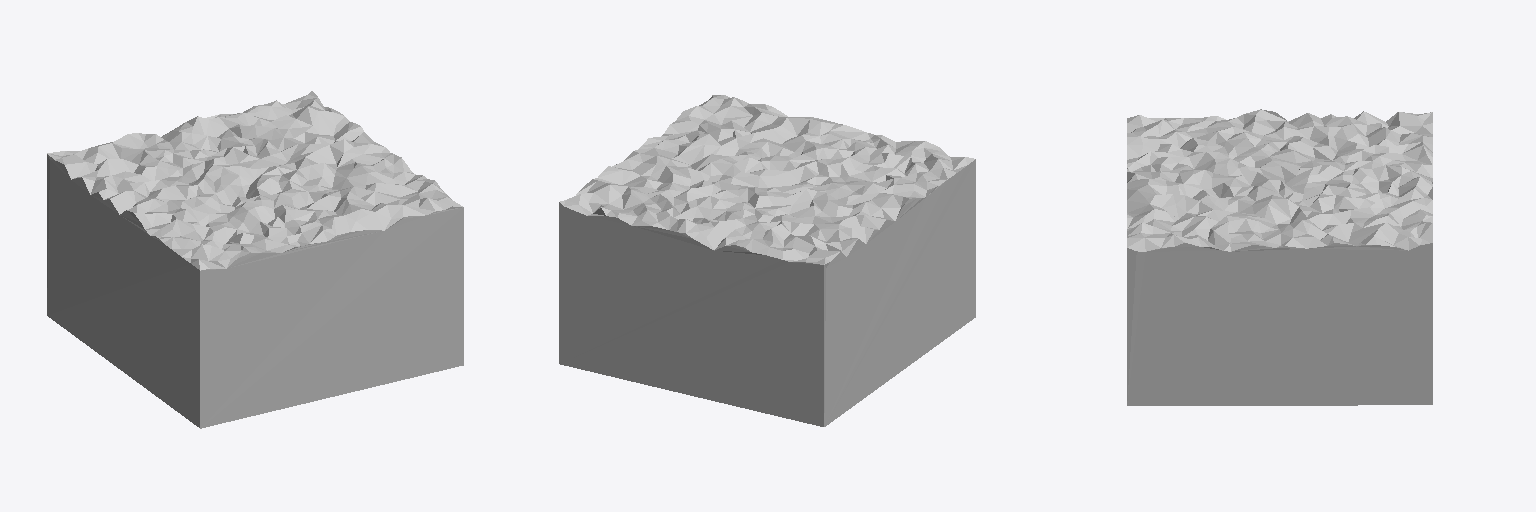
File: water_000010.obj
3 renders of one model, left to right at view 1: azimuth 30°, elevation 25°; view 2: azimuth 150°, elevation 25°; view 3: azimuth 270°, elevation 25°, orthographic.
Parts seen in each view (by area): view 1: Plane; view 2: Plane; view 3: Plane.
Part boxes in pixels (bbox=[...]): Plane: bbox=[47, 91, 463, 428]; Plane: bbox=[559, 95, 975, 426]; Plane: bbox=[1127, 109, 1432, 405].
Bounding box in the file's own units: 16.15 × 9.95 × 16.12.